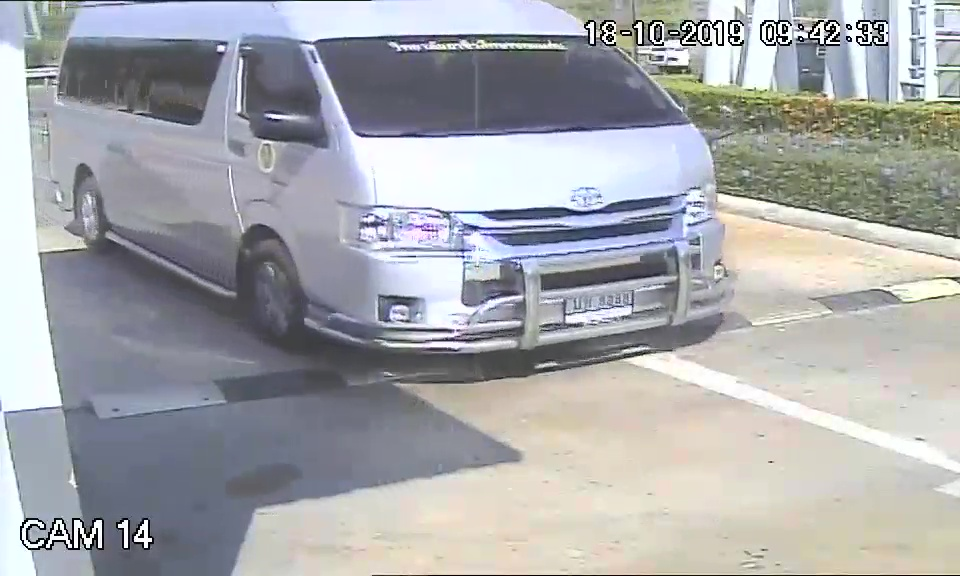van: (62, 3, 737, 361)
